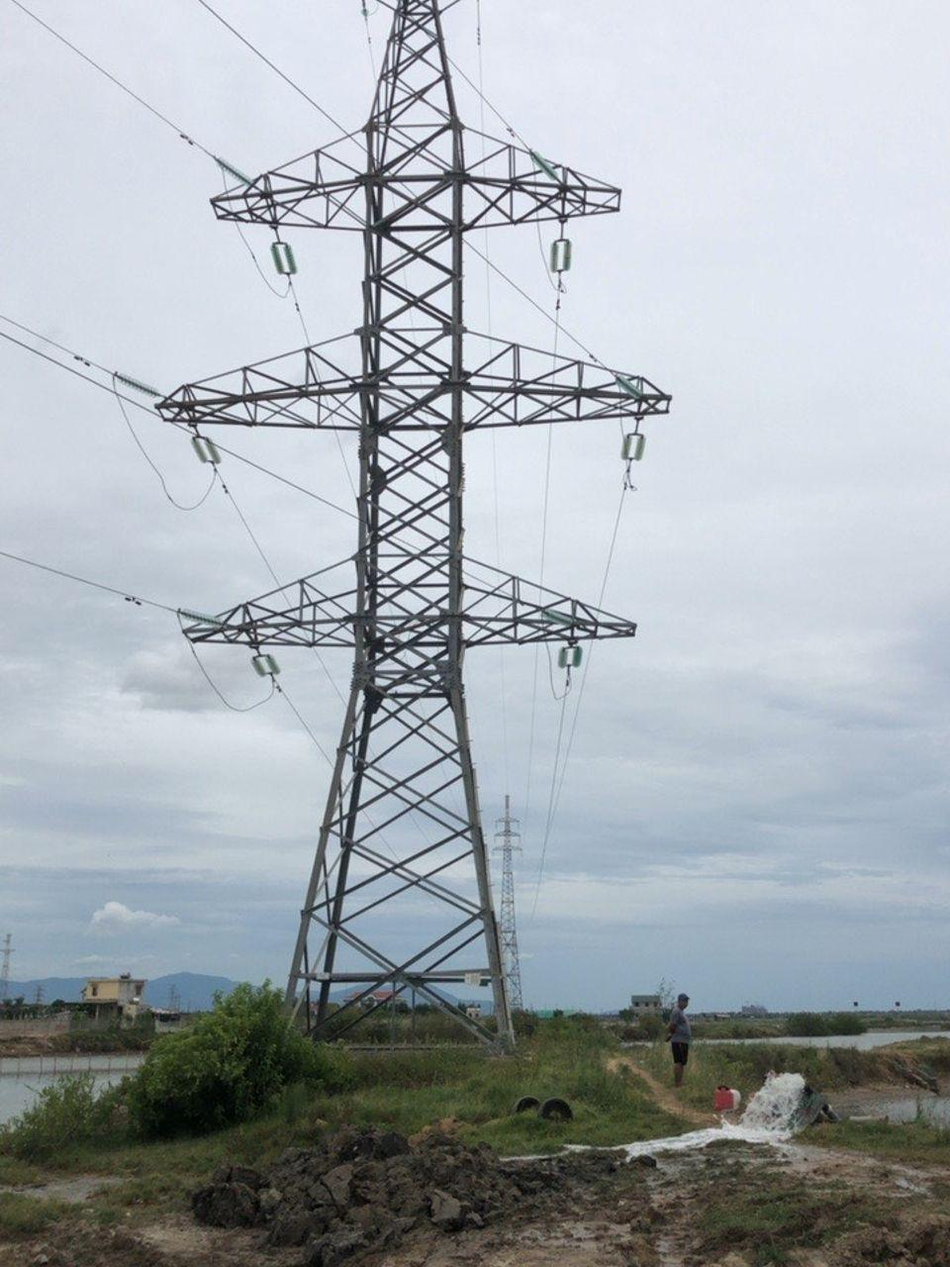tower: (138, 0, 702, 1074)
